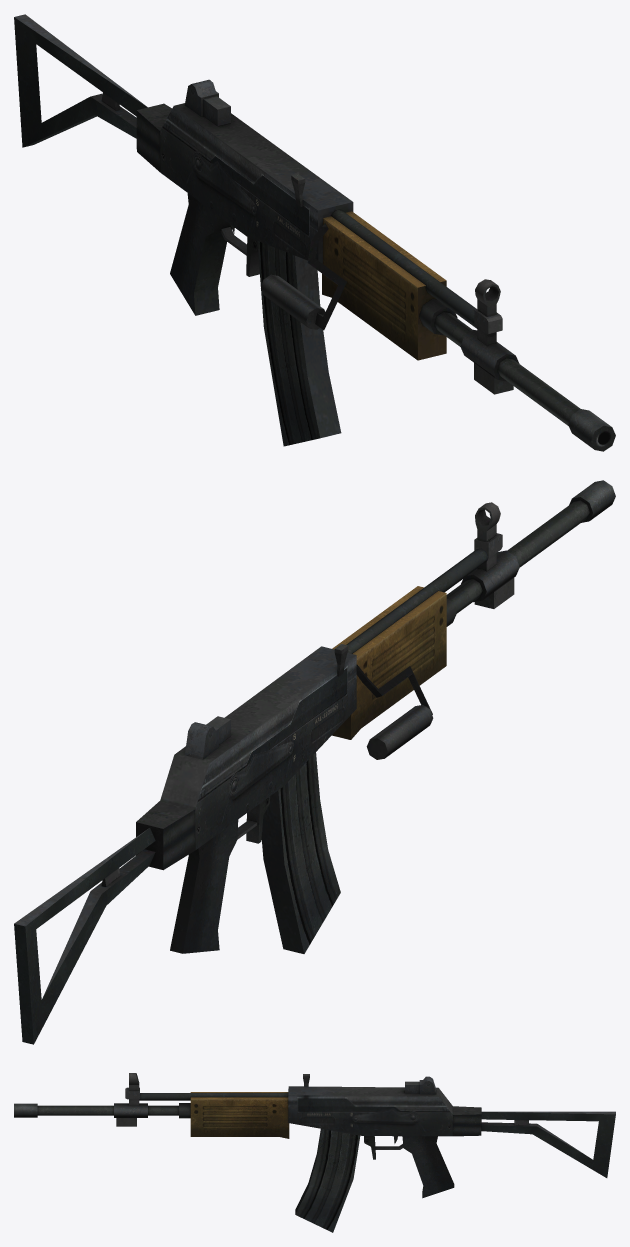
Rendered from galil.FBX.
3 renders of one model, top to bottom at view 1: azimuth 30°, elevation 25°; view 2: azimuth 150°, elevation 25°; view 3: azimuth 270°, elevation 25°, orthographic. The views are drawn at different scales.
Parts seen in each view (by area): view 1: SMDImporter.Mesh.w_rif_galil; view 2: SMDImporter.Mesh.w_rif_galil; view 3: SMDImporter.Mesh.w_rif_galil.
Part boxes in pixels (left/top/right/bottom): SMDImporter.Mesh.w_rif_galil: left=14, top=14, right=615, bottom=451; SMDImporter.Mesh.w_rif_galil: left=14, top=480, right=615, bottom=1044; SMDImporter.Mesh.w_rif_galil: left=14, top=1073, right=615, bottom=1232.
Bounding box in the file's own units: 8.69 × 31.16 × 108.
